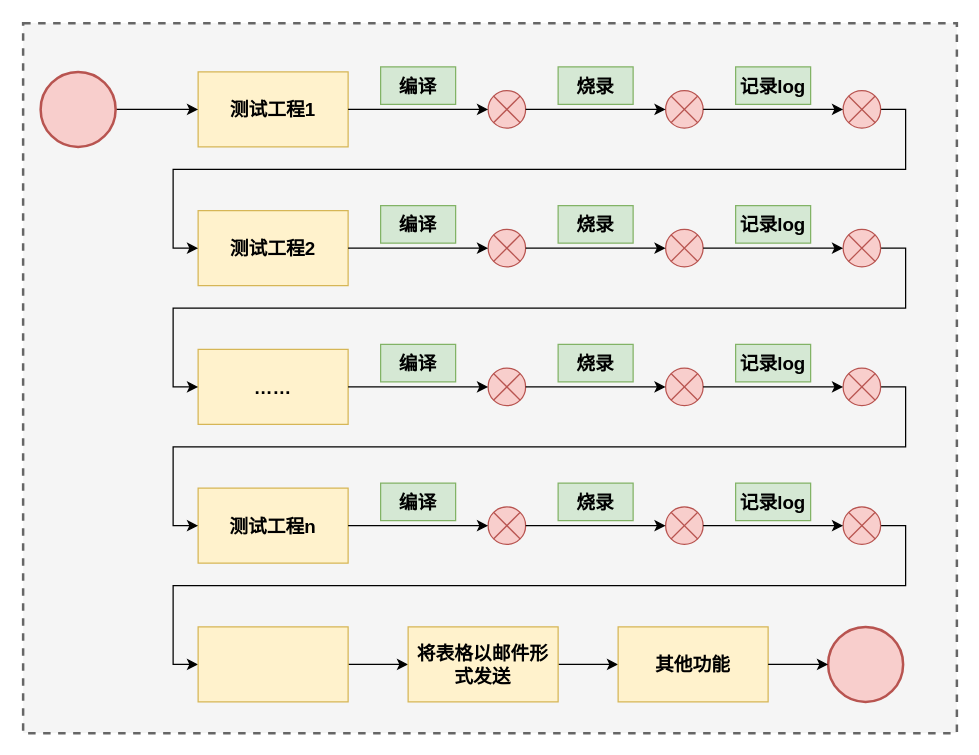
This 979x755 diagram has some shape labels left out. The centre of each missing label's shape, as x and y in pixels:
开始: [77,109]
整理log 将log解析成表格: [272,664]
结束: [865,663]
